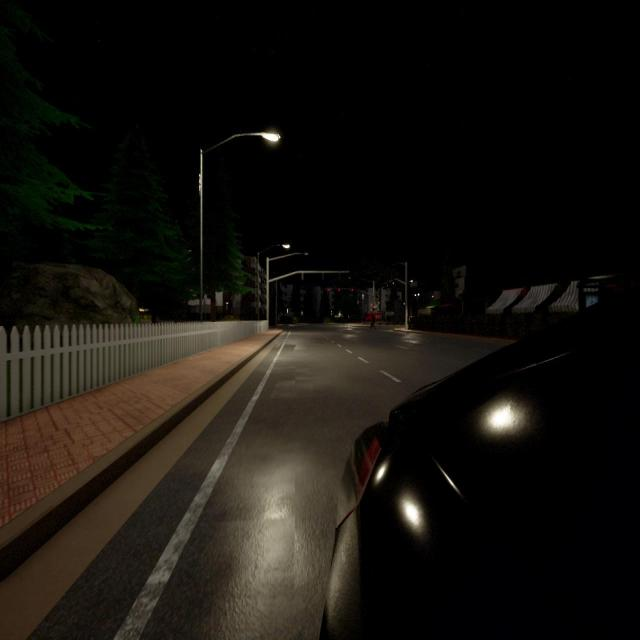Pedestrian: (369, 314, 376, 331)
Vehicle: (322, 288, 640, 640)
traffic_light: (301, 272, 304, 279), (392, 279, 394, 285), (327, 288, 330, 291), (351, 288, 354, 291), (403, 302, 405, 306), (338, 288, 340, 291), (373, 306, 374, 311), (387, 282, 388, 287)
